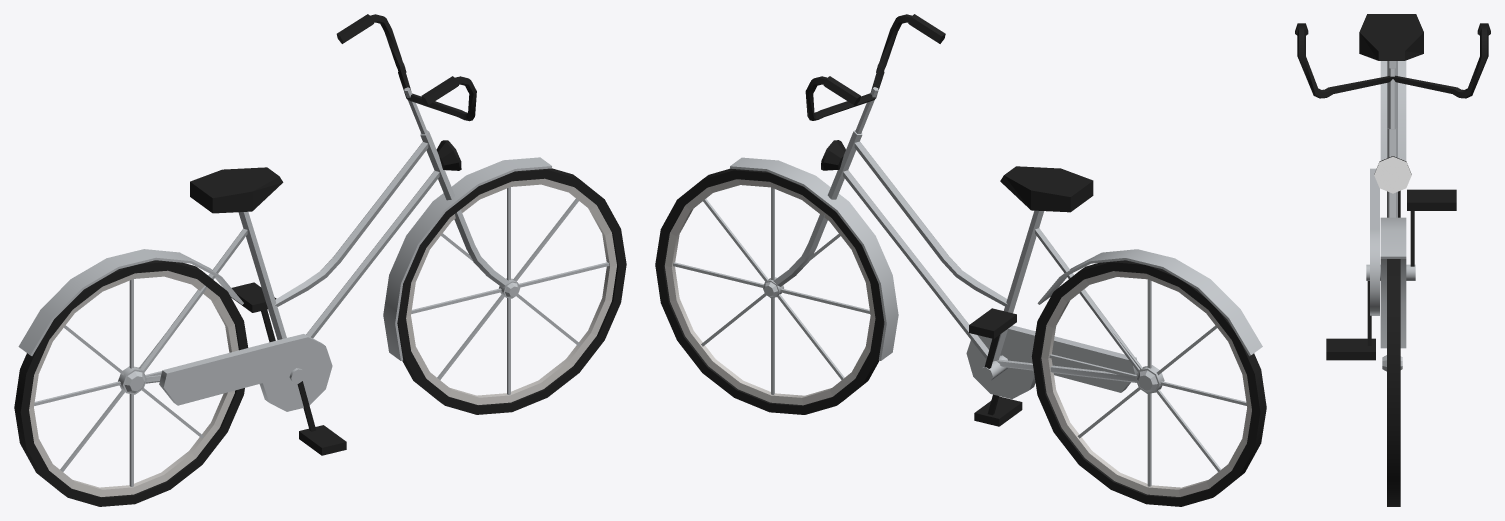
File: SM_bike_01.fbx
3 renders of one model, left to right at view 1: azimuth 30°, elevation 25°; view 2: azimuth 150°, elevation 25°; view 3: azimuth 270°, elevation 25°, orthographic. The views are drawn at different scales.
Visible parts, largest first — view 1: Box107; view 2: Box107; view 3: Box107.
Boxes of the visible parts, bbox=[...] form: Box107: bbox=[14, 14, 626, 506]; Box107: bbox=[655, 14, 1266, 506]; Box107: bbox=[1295, 14, 1490, 506].
Size of the model in its own units: 101 by 26.31 by 61.8.
